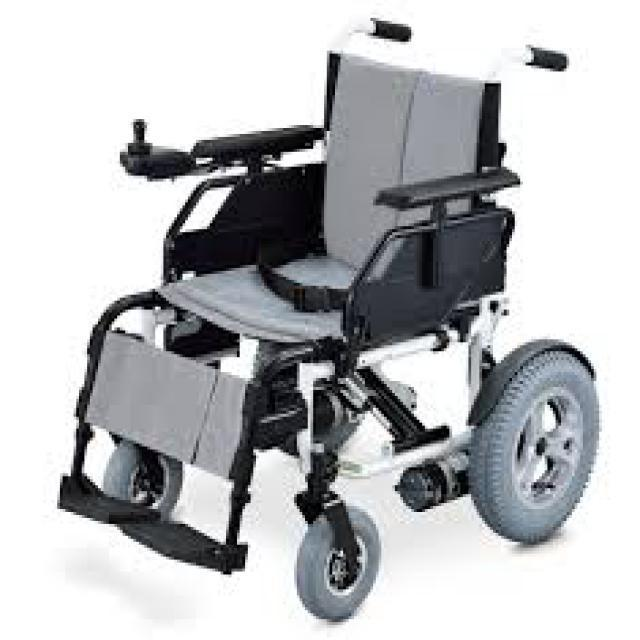wheelchairs: (68, 17, 598, 621)
